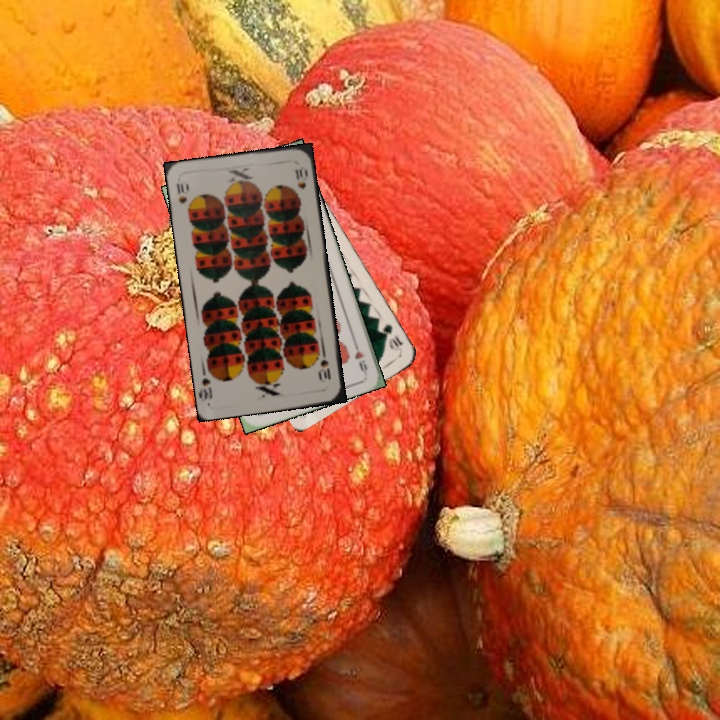G10: (379, 319, 405, 355)
H9: (349, 336, 370, 376)
S10: (316, 347, 333, 385), (173, 179, 189, 206)
